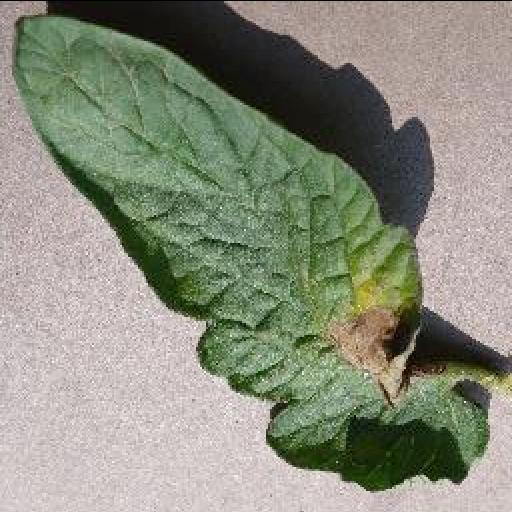disease_tomato: (9, 14, 491, 492)
